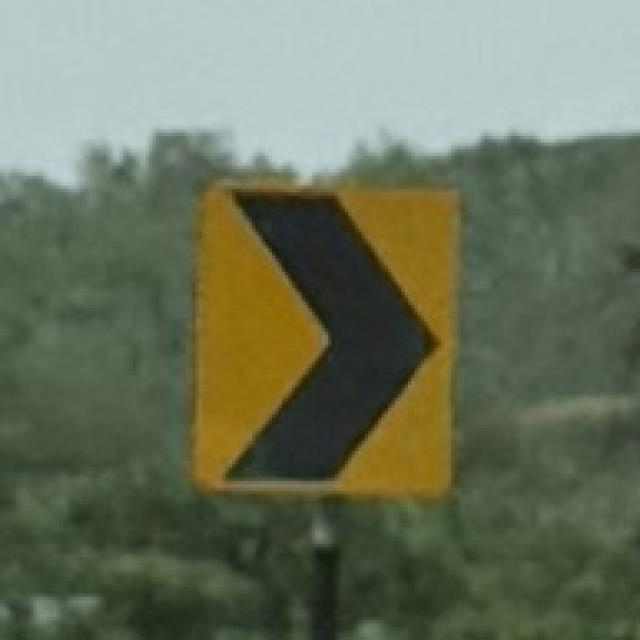TURN_RIGHT: (187, 175, 463, 509)
